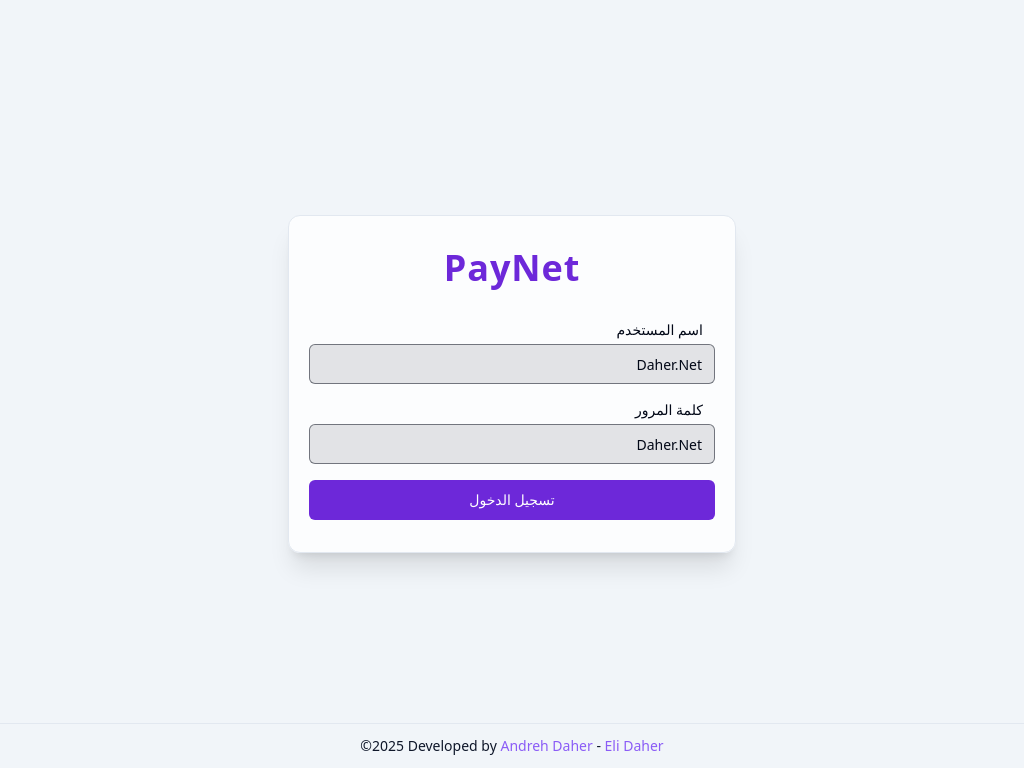
Scenario: logs in and routes admin to the correct home
Expected: the heading "PayNet" is shown, 444,243 -> 580,292
Type "qa" into the field labelled "اسم المستخدم". click: (512, 364)
box: 309,344 -> 715,384
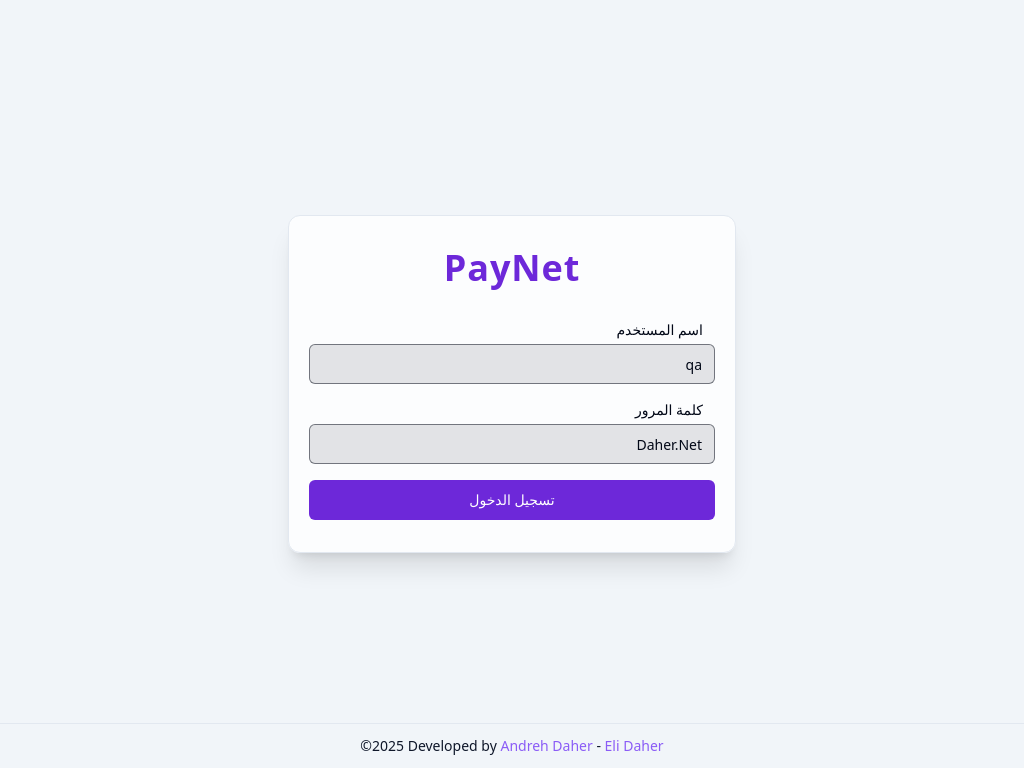
Type "password" into the password field labelled "كلمة المرور". click: (512, 444)
box: 309,424 -> 715,464
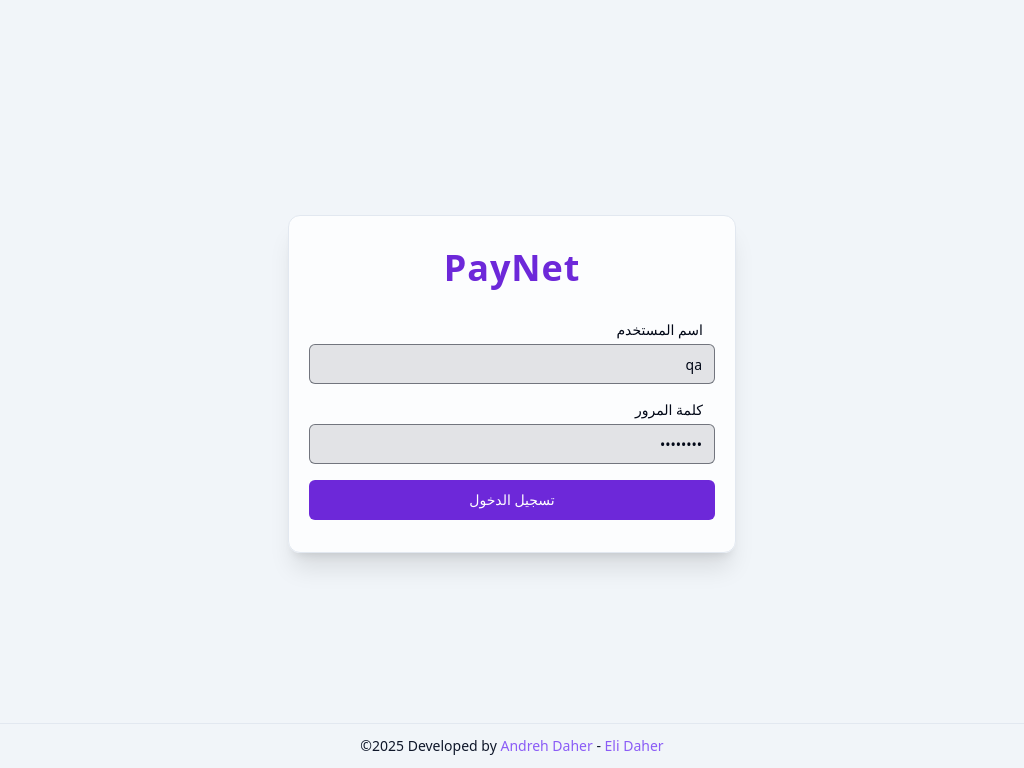
Click the button "تسجيل الدخول". click: (512, 500)
box: 309,480 -> 715,520
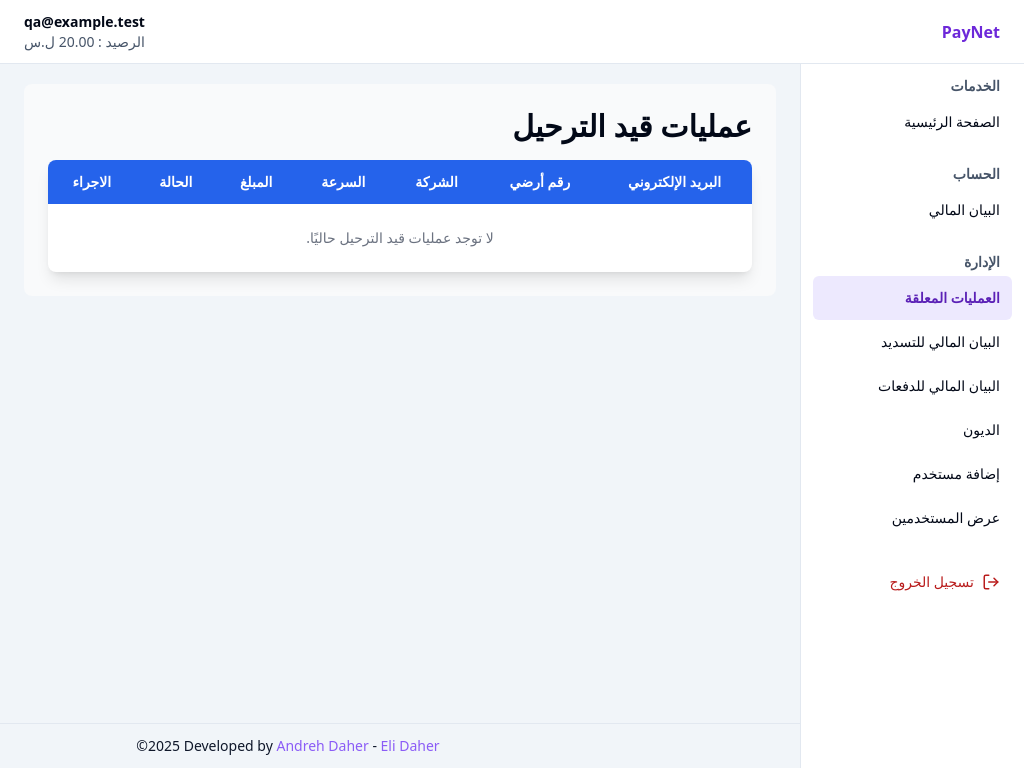
Result: the heading "عمليات قيد الترحيل" is shown at 512,105 -> 752,146
